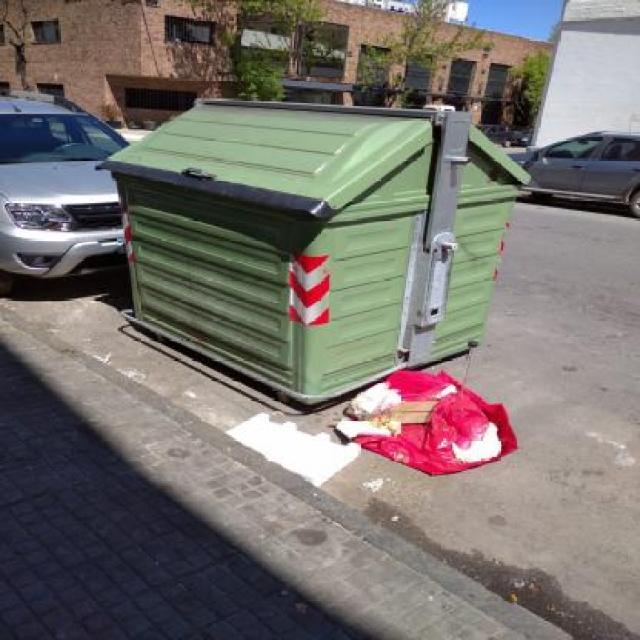garbage: (300, 346, 534, 498), (211, 392, 428, 506)
